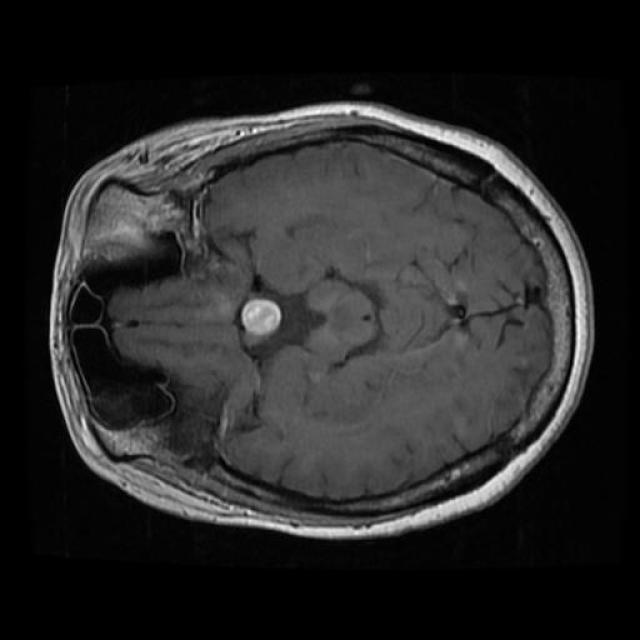Pituitary: (241, 299, 281, 336)
